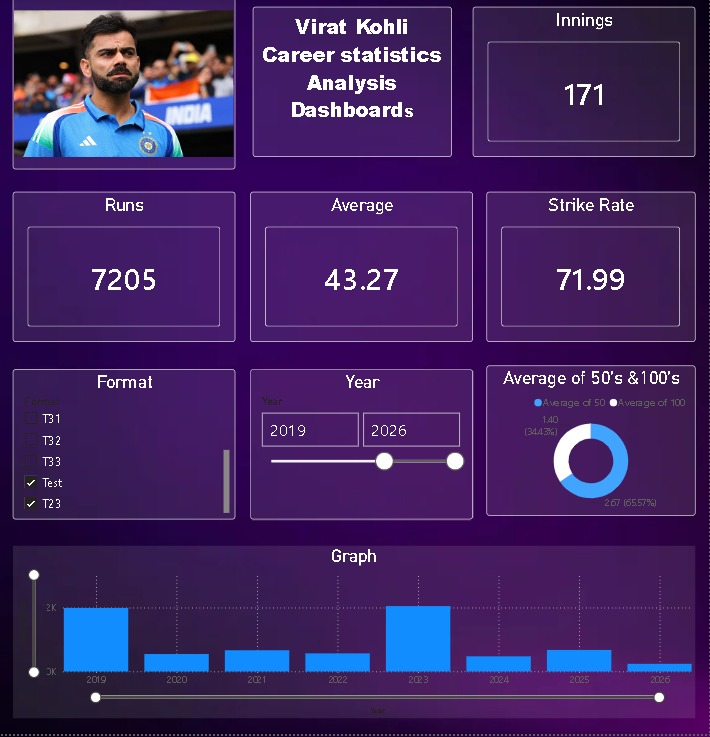

The dashboard page shown, as its layout file describes it:
{"tool":"powerbi","page":{"name":"Page 1","canvas":[1012,1000],"ordinal":0},"visuals":[{"type":"image","box":[66.2,0,302.3,232.7],"z":0},{"type":"textbox","box":[392.3,11.9,270,203.8],"z":1000},{"type":"cardVisual","title":"Innings","fields":{"Data":["Sum(Sheet1.Innings)"]},"box":[691.2,11.9,302.3,203.8],"z":2000},{"type":"cardVisual","title":"Runs","fields":{"Data":["Sum(Sheet1.Runs)"]},"box":[66.2,263.2,302.3,203.8],"z":3000},{"type":"cardVisual","title":"Average","fields":{"Data":["Avg(Sheet1.Avg)"]},"box":[388.9,263.2,302.3,203.8],"z":4000},{"type":"cardVisual","title":"Strike Rate","fields":{"Data":["Avg(Sheet1.SR)"]},"box":[709.9,263.2,283.6,203.8],"z":5000},{"type":"slicer","title":"Format","fields":{"Values":["Sheet1.Format"]},"box":[66,505,302,204],"z":6000},{"type":"slicer","title":"Year","fields":{"Values":["Sheet1.Year"]},"box":[388.9,504.4,302.3,203.8],"z":7000},{"type":"clusteredColumnChart","title":"Graph ","fields":{"Y":["Sum(Sheet1.Runs)"],"Category":["Sheet1.Year"]},"box":[66.2,743.9,927.3,234.4],"z":8000},{"type":"donutChart","title":"Average of 50''s &100''s","fields":{"Y":["Avg(Sheet1.50)","Avg(Sheet1.100)"]},"box":[709.9,499.3,283.6,203.8],"z":9000}]}

Visuals, with their boxes in screenshot pixels (x1, y1, x2, y2):
image: [left=7, top=0, right=232, bottom=165]
textbox: [left=250, top=1, right=450, bottom=153]
"Innings" cardVisual: [left=472, top=1, right=697, bottom=153]
"Runs" cardVisual: [left=7, top=188, right=232, bottom=340]
"Average" cardVisual: [left=247, top=188, right=472, bottom=340]
"Strike Rate" cardVisual: [left=486, top=188, right=697, bottom=340]
"Format" slicer: [left=7, top=368, right=232, bottom=520]
"Year" slicer: [left=247, top=367, right=472, bottom=519]
"Graph " clusteredColumnChart: [left=7, top=546, right=697, bottom=720]
"Average of 50''s &100''s" donutChart: [left=486, top=364, right=697, bottom=515]
